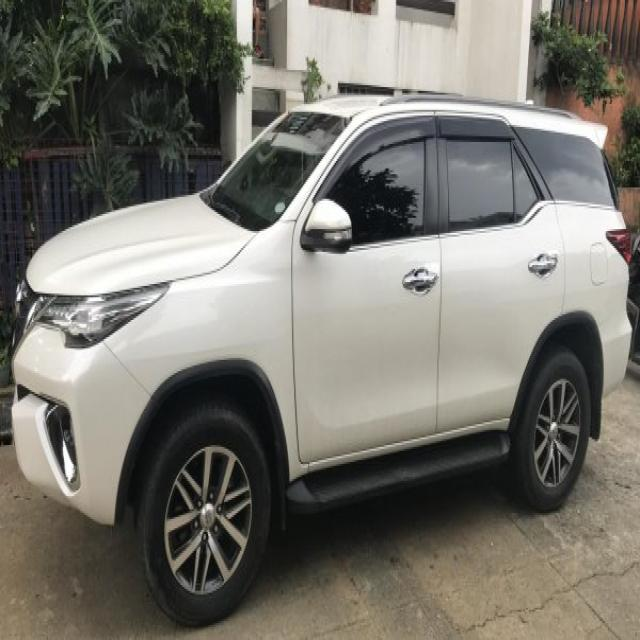light_vehicle: (10, 88, 634, 626)
